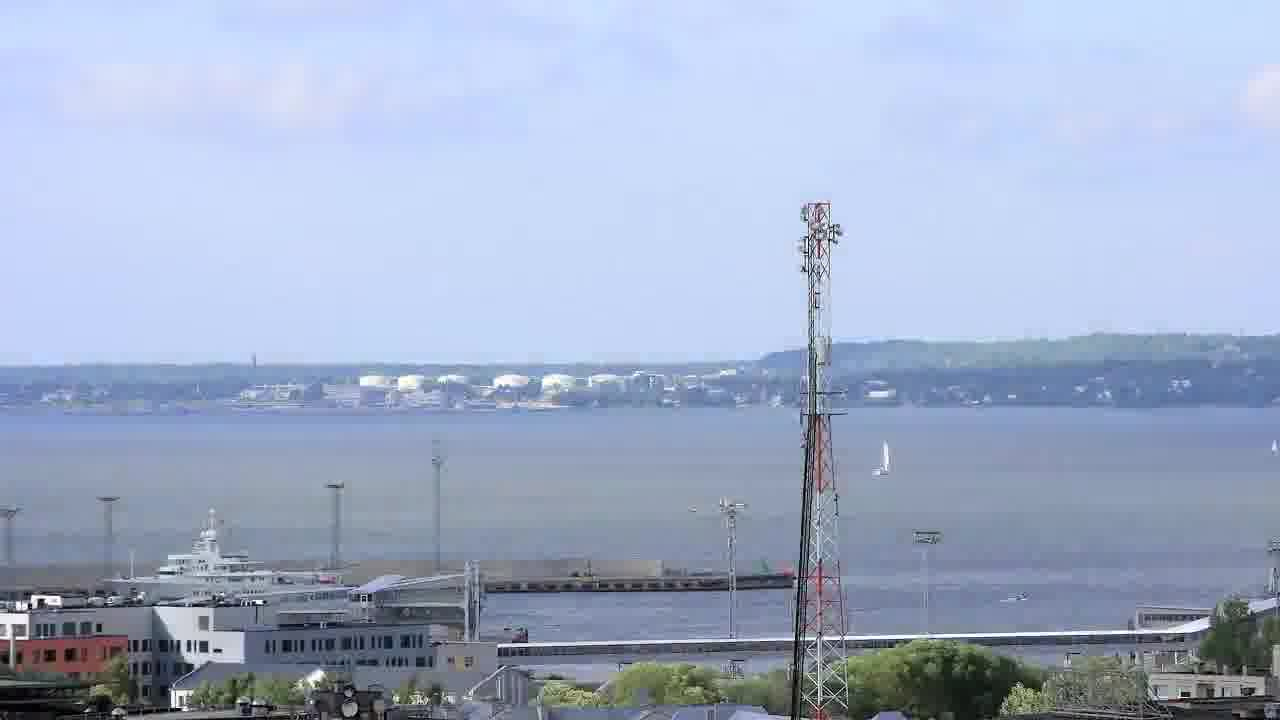type-2: (861, 434, 918, 486)
type-3: (84, 515, 355, 603)
